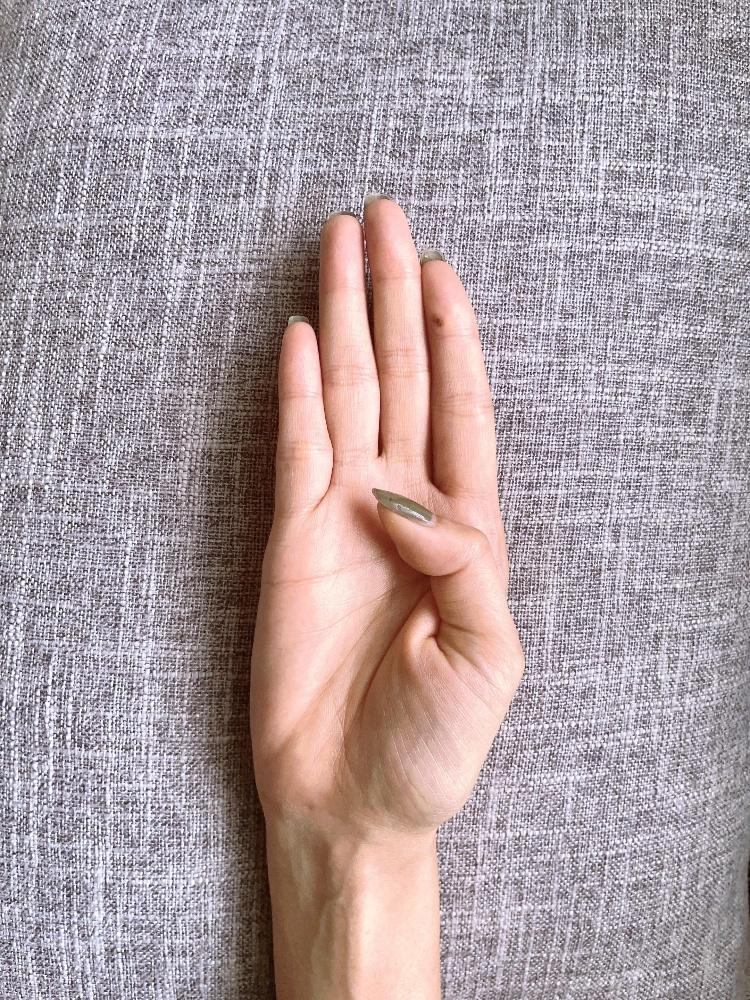b: (246, 195, 525, 826)
